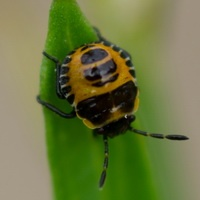insect: (36, 27, 188, 187)
